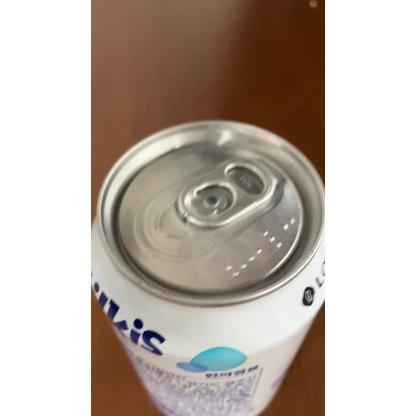Can: (91, 119, 325, 416)
